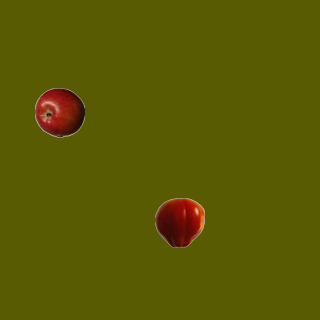Apple Braeburn: (34, 87, 84, 137)
Tomato 1: (154, 197, 204, 247)
